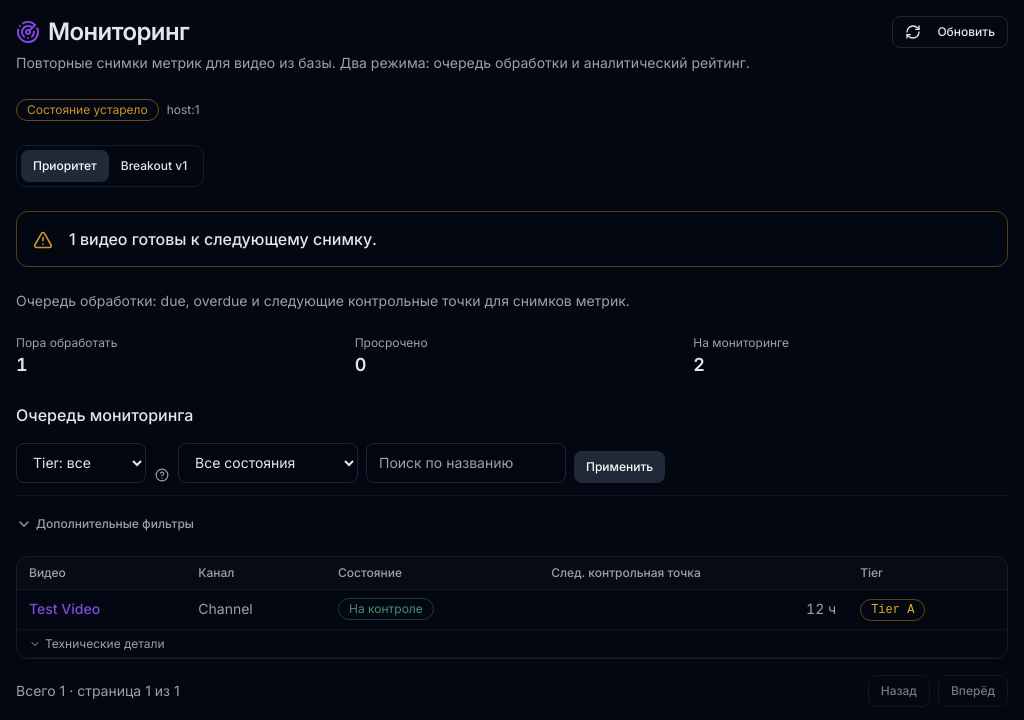
MonitoringDashboard › formats snapshot freshness in breakout table
This screenshot has width=1024, height=720.
Click the tab with test id "monitoring-mode-breakout" at (154,166), box [109,150,199,182]
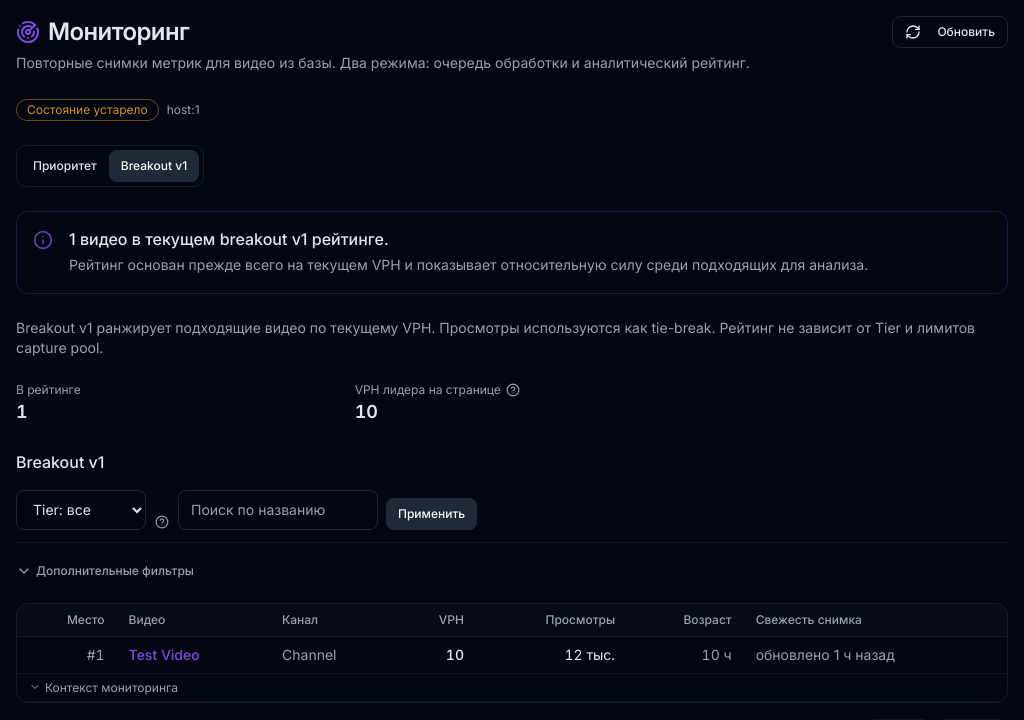
Now the text "обновлено 1 ч назад" is shown, box [756,646,895,662]
